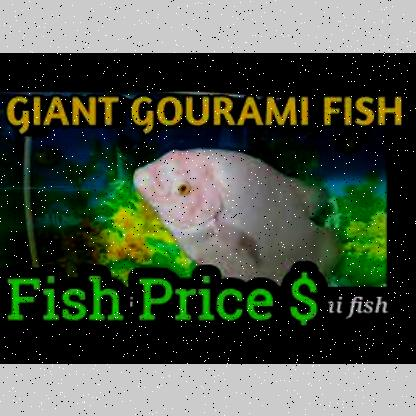gurame: (133, 144, 343, 278)
